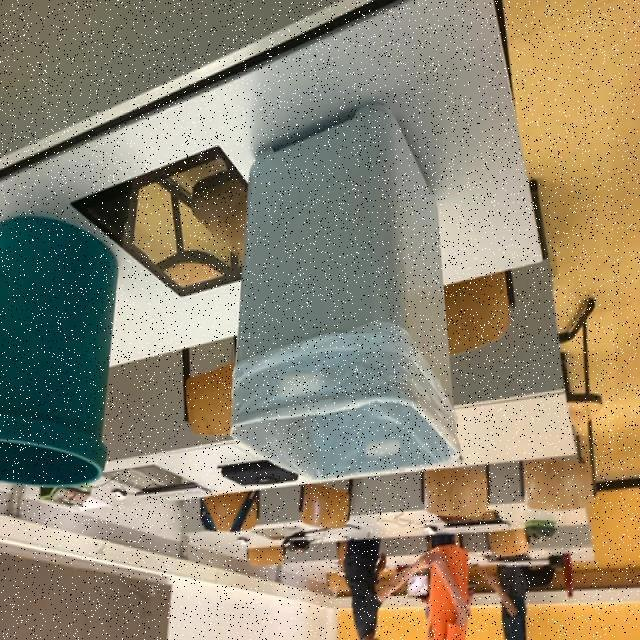garbage container: (199, 83, 475, 528), (1, 167, 136, 535)
